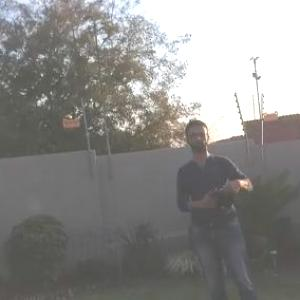follow: (172, 109, 267, 299)
